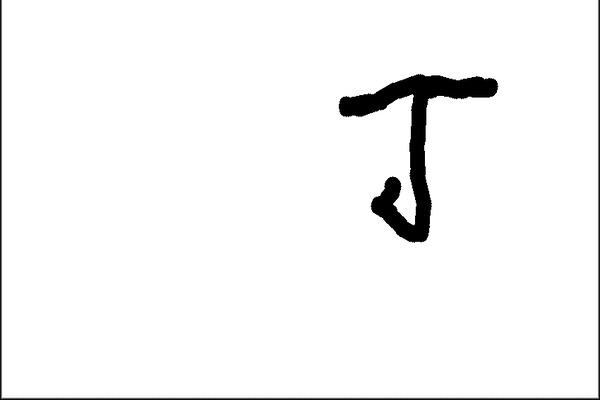J: (330, 63, 506, 250)
